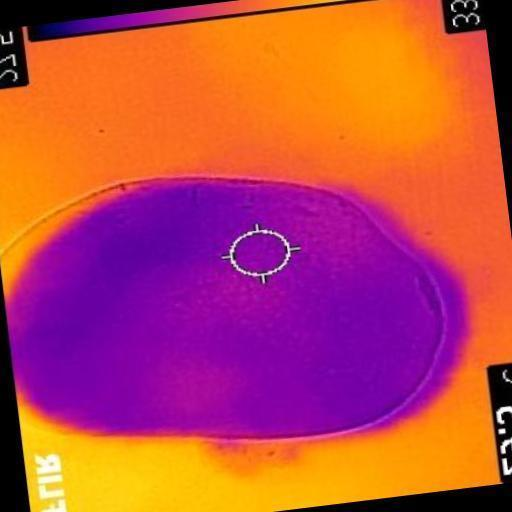alphanso: (2, 178, 447, 446)
